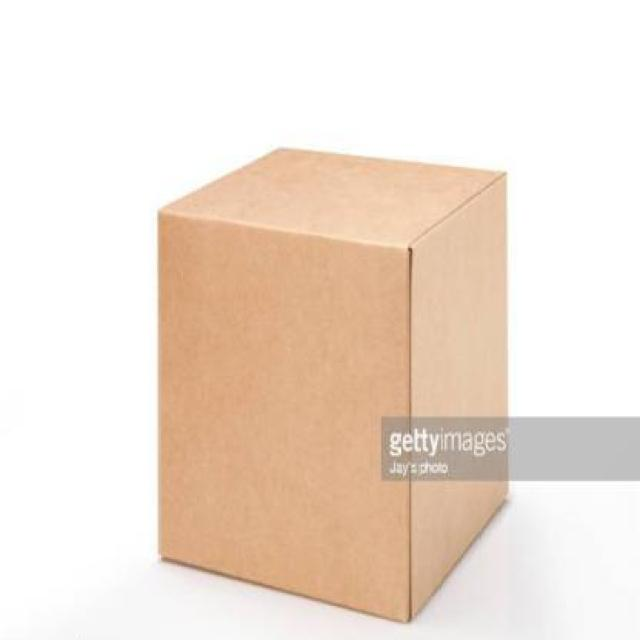box: (141, 120, 517, 640)
